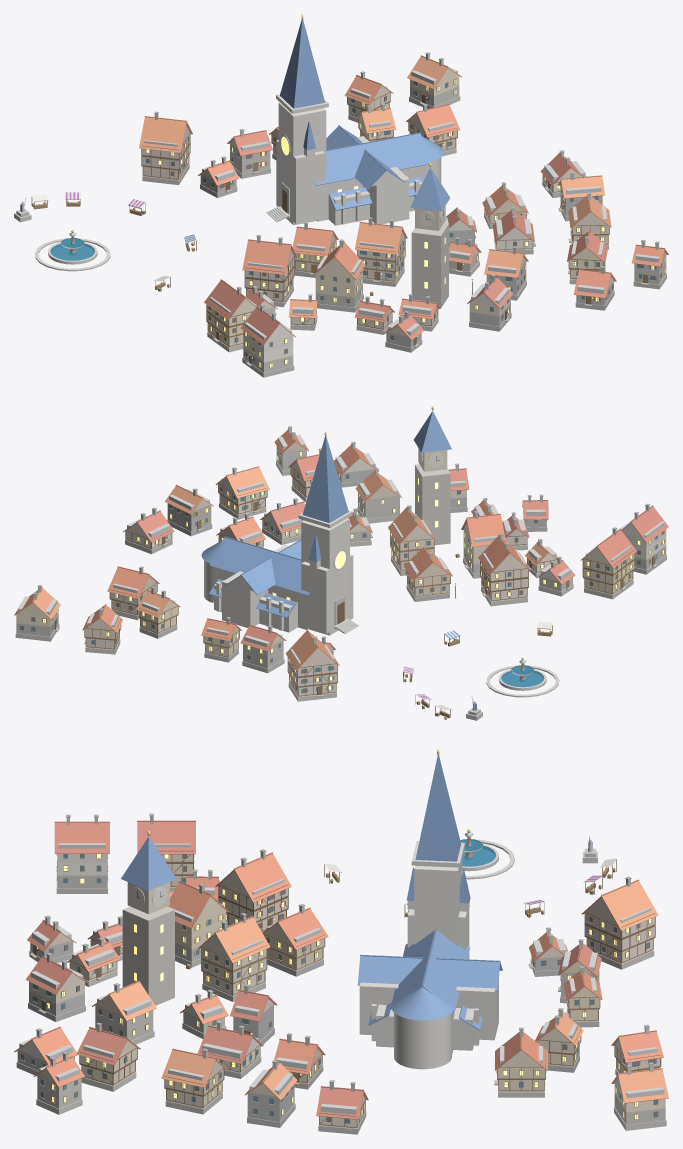
Rendered from struct_8_8.glb.
The picture shows the model from 3 angles, top to bottom: view 1: azimuth 30°, elevation 25°; view 2: azimuth 150°, elevation 25°; view 3: azimuth 270°, elevation 25°; orthographic projection. The views are drawn at different scales.
Parts seen in each view (by area): view 1: HousesNear, Landmarks, Occluder-occonly, HousesFar; view 2: HousesNear, Landmarks, Occluder-occonly, HousesFar; view 3: HousesNear, Landmarks, Occluder-occonly, HousesFar.
Part boxes in pixels (bbox=[...]): HousesNear: bbox=[139, 55, 668, 377]; Landmarks: bbox=[14, 14, 472, 308]; Occluder-occonly: bbox=[144, 67, 659, 339]; HousesFar: bbox=[210, 52, 645, 361]; HousesNear: bbox=[14, 426, 668, 701]; Landmarks: bbox=[201, 406, 559, 720]; Occluder-occonly: bbox=[17, 434, 664, 664]; HousesFar: bbox=[33, 432, 657, 691]; HousesNear: bbox=[14, 813, 668, 1134]; Landmarks: bbox=[121, 749, 616, 1069]; Occluder-occonly: bbox=[19, 843, 664, 1114]; HousesFar: bbox=[37, 814, 653, 1091].
Bounding box in the file's own units: 142 × 55.37 × 135.
